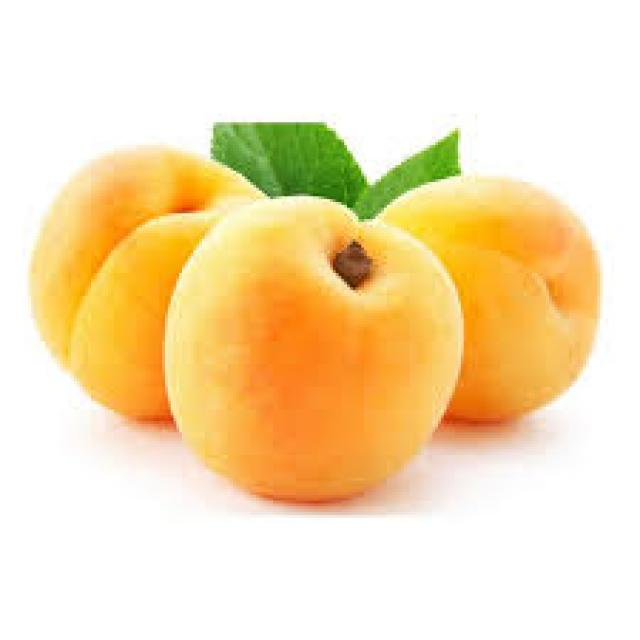kayisi: (166, 199, 454, 505)
